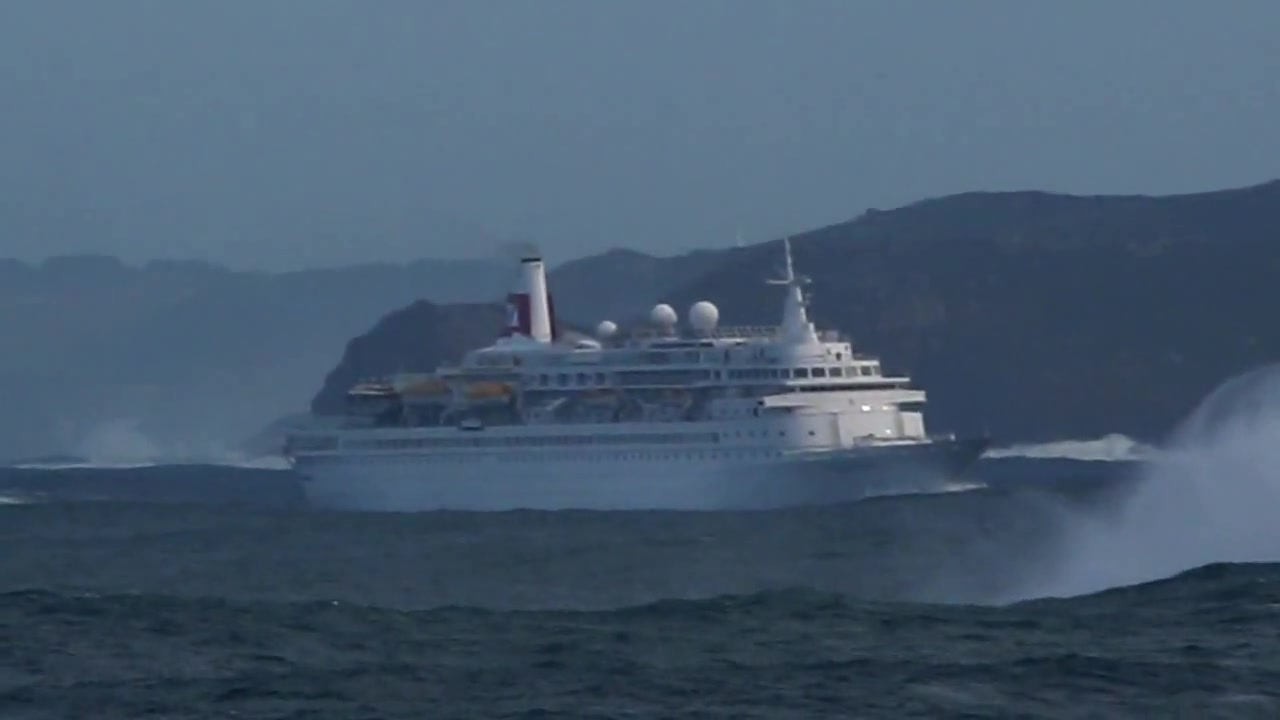boat: (282, 243, 996, 516)
